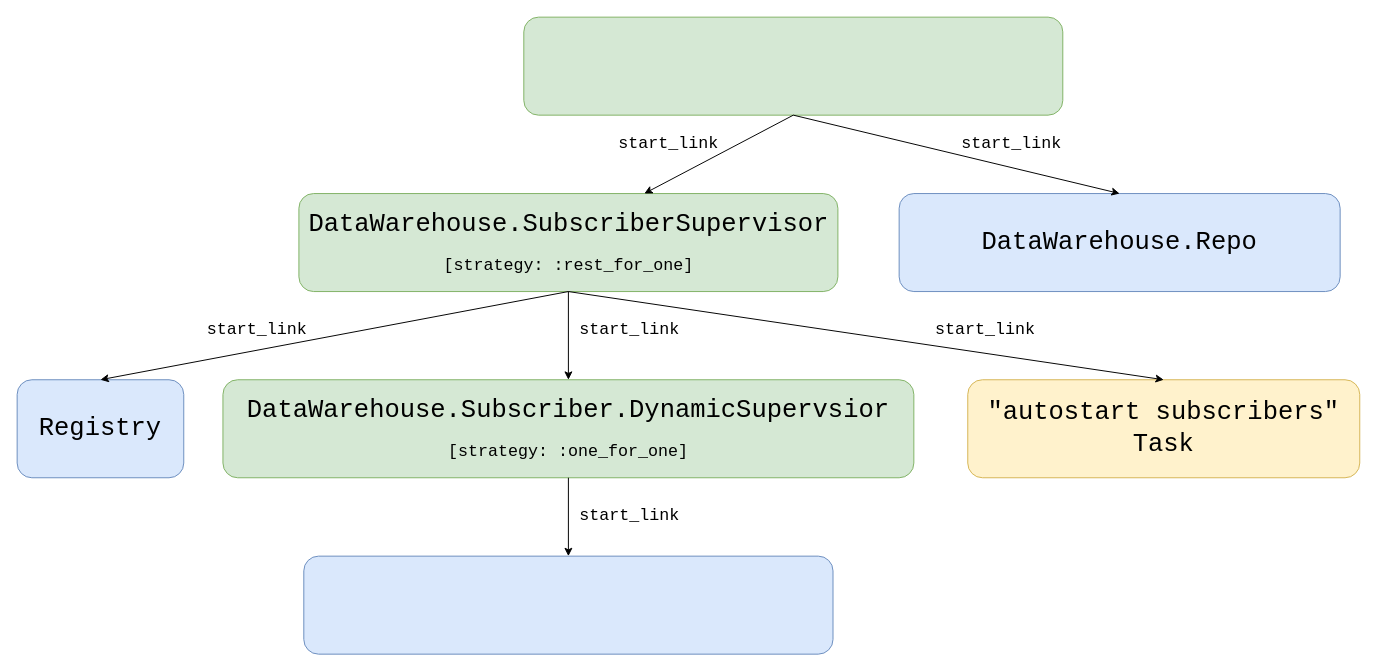
The diagram is 1377 pixels wide and 671 high, and some of its shapes have lost their labels. The centre of each missing label's shape, as x and y in pixels:
"DataWarehouse.Application [strategy: :one_for_one]" goes at [793,65].
"DataWarehouse.Subscriber.Worker" goes at [568,604].
